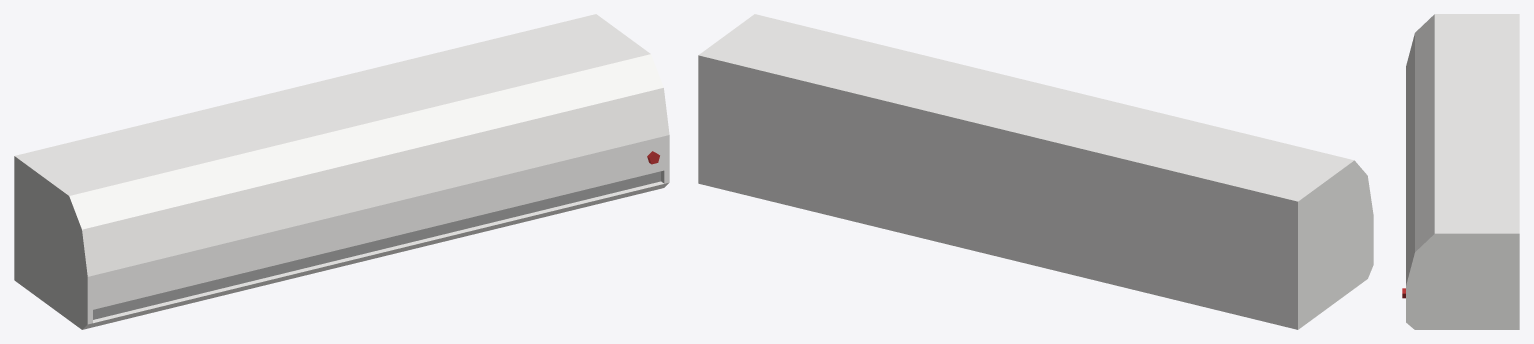
The picture shows the model from 3 angles, left to right: view 1: azimuth 30°, elevation 25°; view 2: azimuth 150°, elevation 25°; view 3: azimuth 270°, elevation 25°; orthographic projection. The views are drawn at different scales.
Parts seen in each view (by area): view 1: AC; view 2: AC; view 3: AC.
Part boxes in pixels (x1,y1,x2,y2): AC: [14, 14, 669, 329]; AC: [698, 14, 1373, 329]; AC: [1402, 14, 1519, 329].
Bounding box in the file's own units: 133 × 27.26 × 30.07.
Materials: 1 (1 with a texture image).
